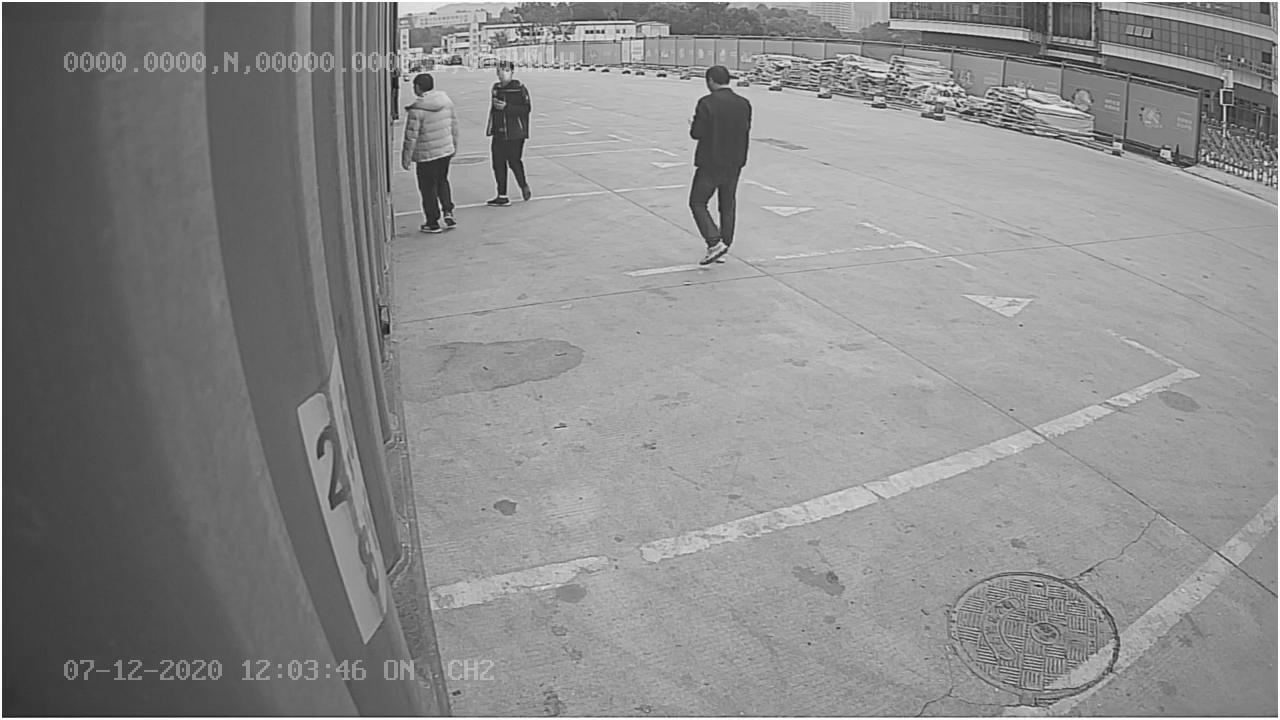person: (685, 62, 754, 268)
